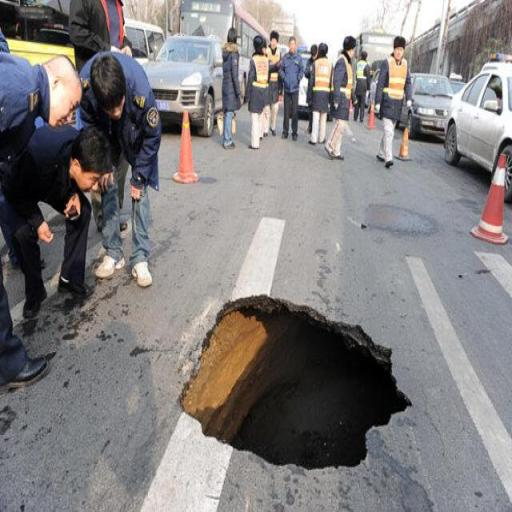Concentric_Crack: (181, 296, 410, 468)
